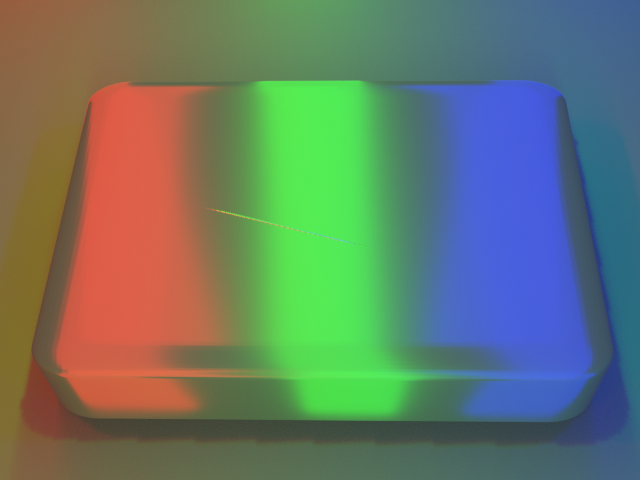scratch: (50, 105, 514, 371)
